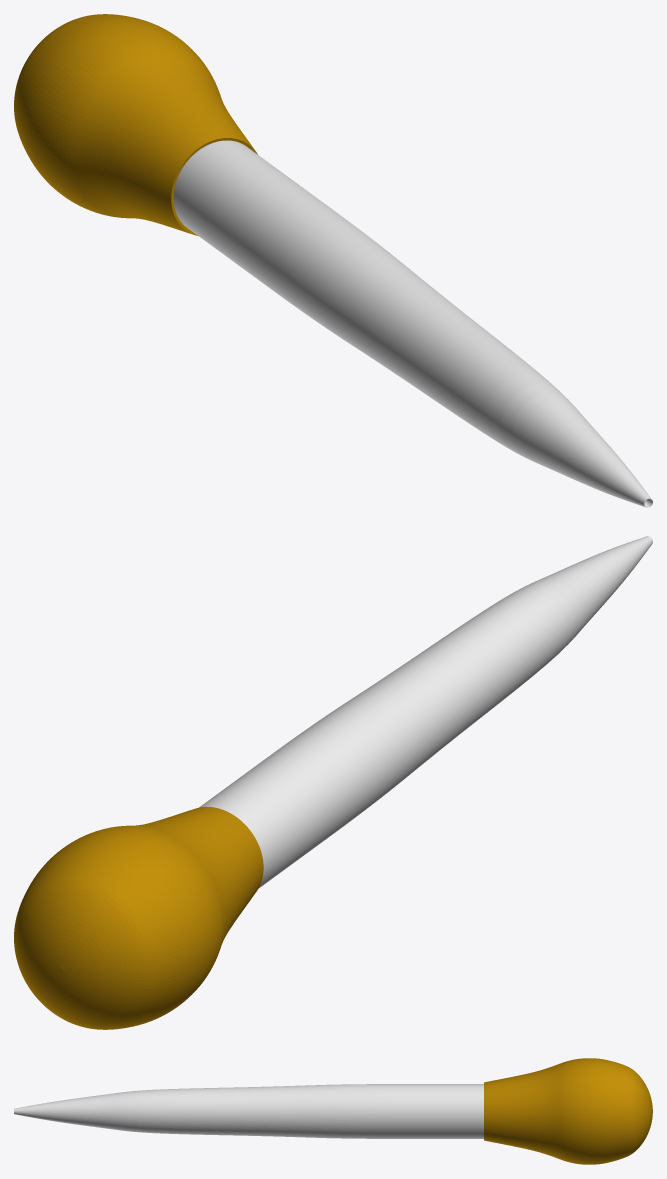
The picture shows the model from 3 angles, top to bottom: view 1: azimuth 30°, elevation 25°; view 2: azimuth 150°, elevation 25°; view 3: azimuth 270°, elevation 25°; orthographic projection. The views are drawn at different scales.
Visible parts, largest first — view 1: imagetostl_mesh; view 2: imagetostl_mesh; view 3: imagetostl_mesh.
Boxes of the visible parts, x1,y1,x2,y2 form: imagetostl_mesh: [14, 14, 652, 507]; imagetostl_mesh: [14, 536, 652, 1029]; imagetostl_mesh: [14, 1058, 652, 1164].
Bounding box in the file's own units: 101 × 101 × 608.
